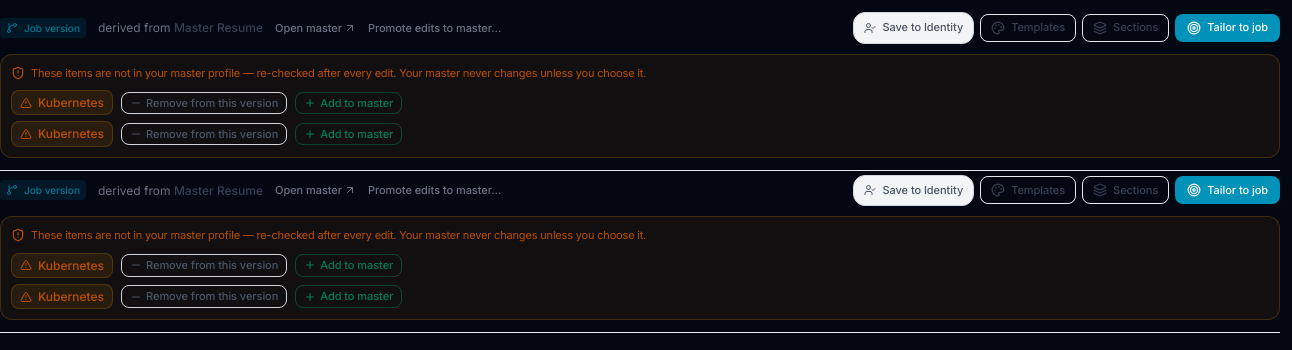
Test: ResumeContextBar › 'Add to master' resolves the finding by writing ONLY the master
Click the 1st button "Add to master".
click(349, 103)  # box left=295, top=92, right=402, bottom=114
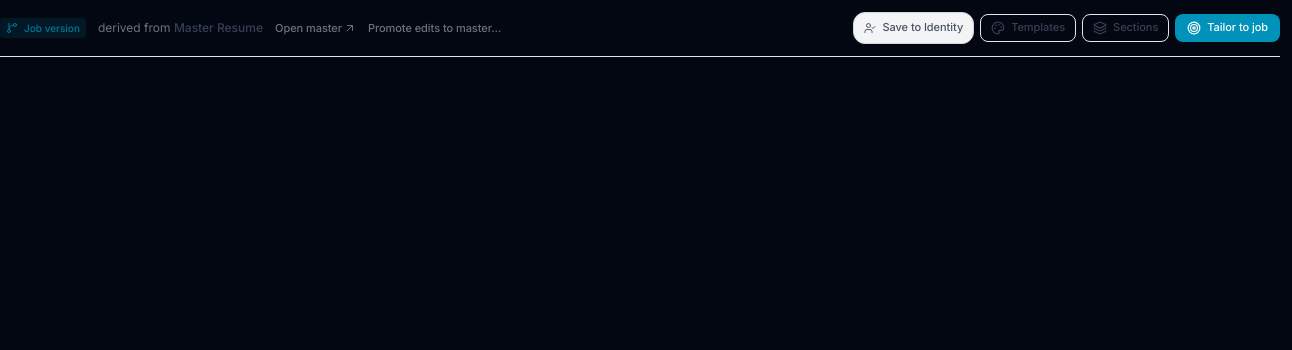
Check: the element with test id "context-safety-panel" is gone
Check: the text "Remove from this version" is gone
